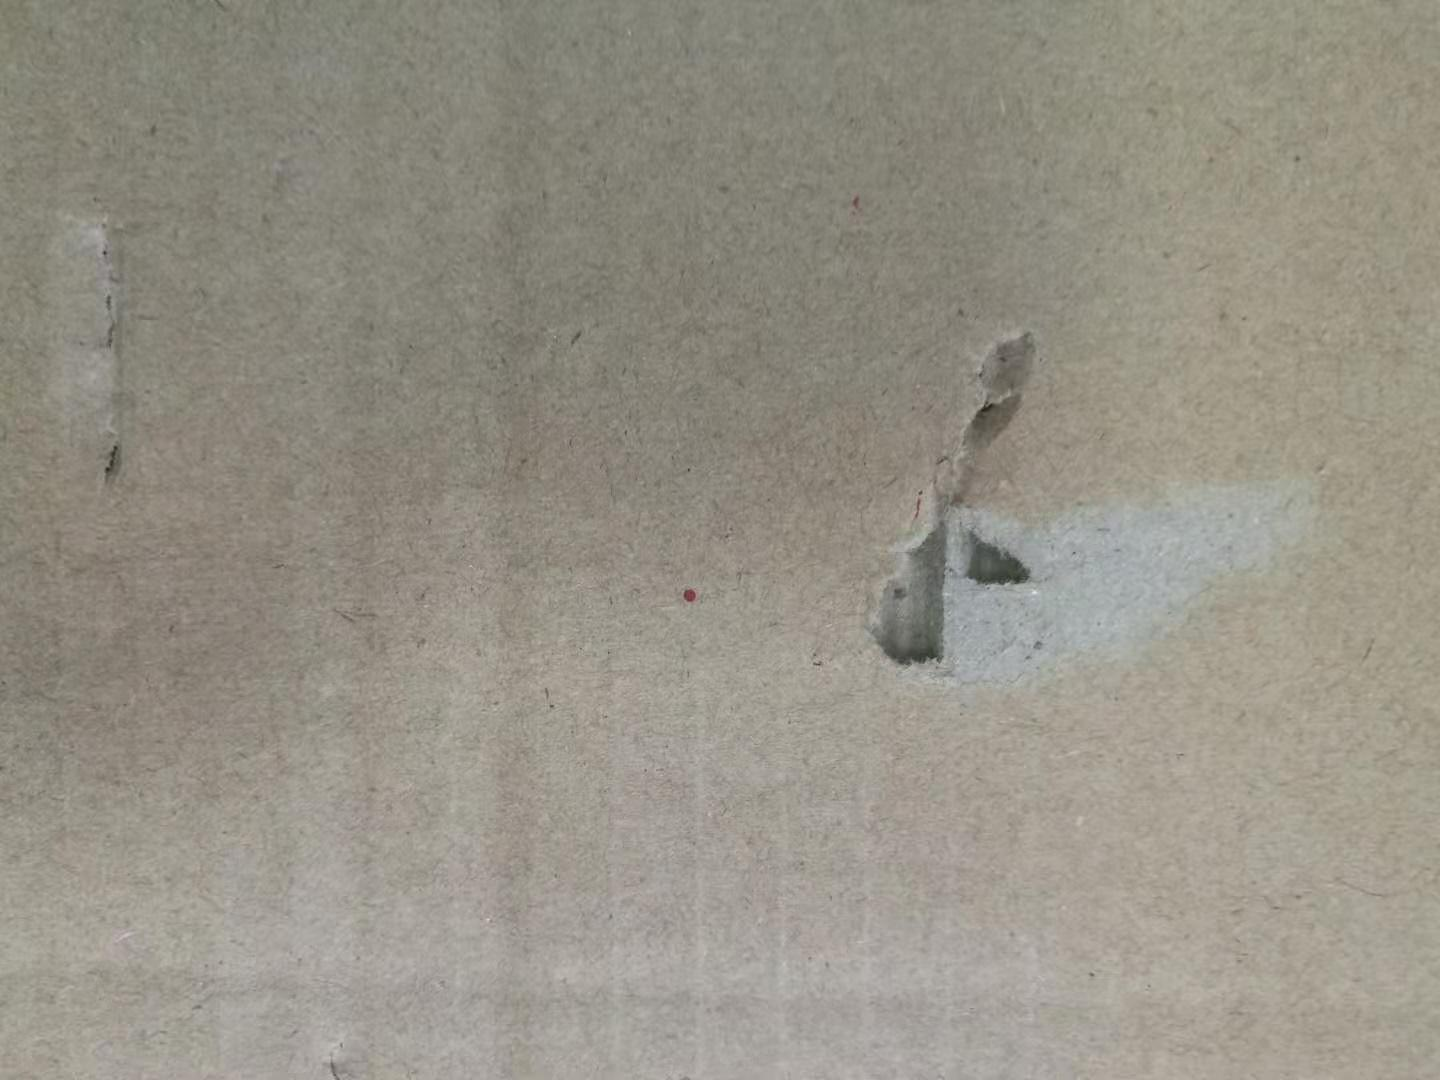defect: (844, 311, 1354, 706), (26, 188, 173, 505)
